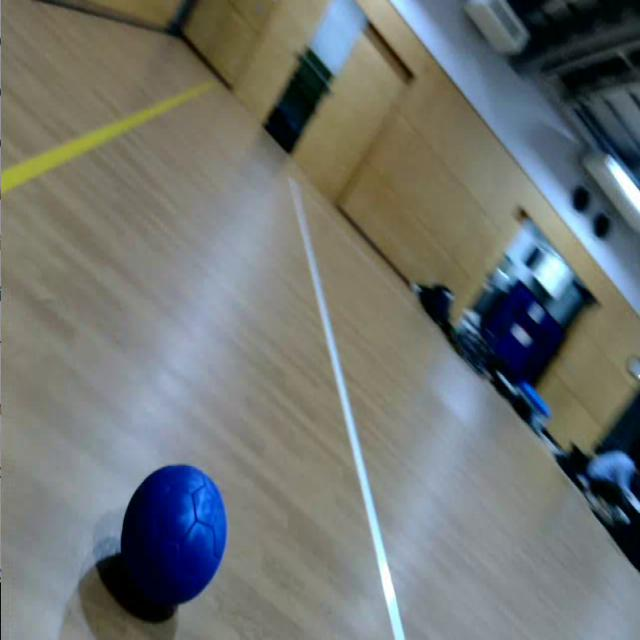blue_ball: (119, 465, 227, 606)
